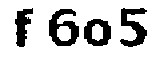5: (118, 4, 149, 51)
6: (46, 6, 81, 50)
f: (11, 5, 38, 49)
o: (82, 17, 113, 49)
